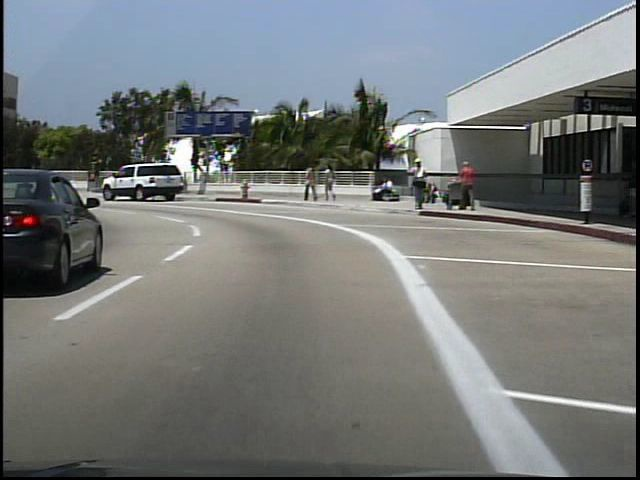person: (404, 156, 426, 216), (459, 157, 479, 212), (323, 161, 339, 206), (371, 175, 393, 206), (304, 162, 319, 205)
